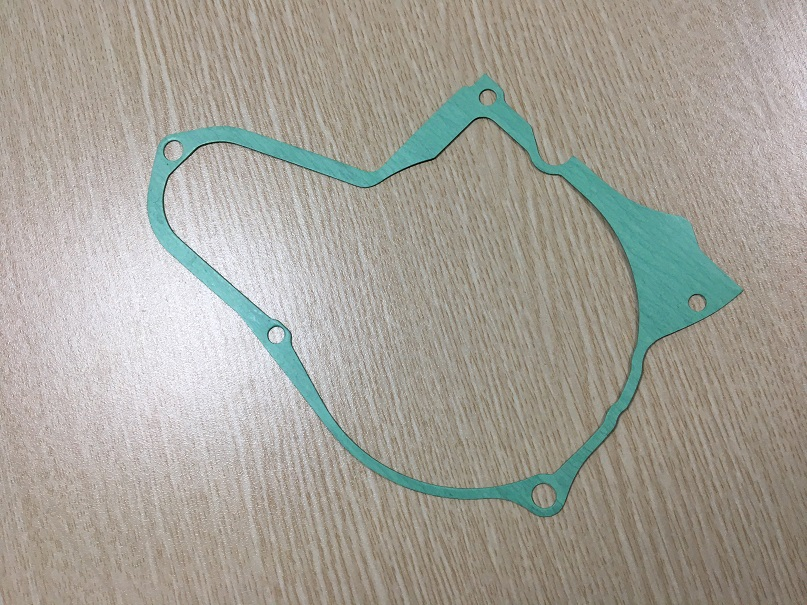type1: (136, 68, 745, 526)
